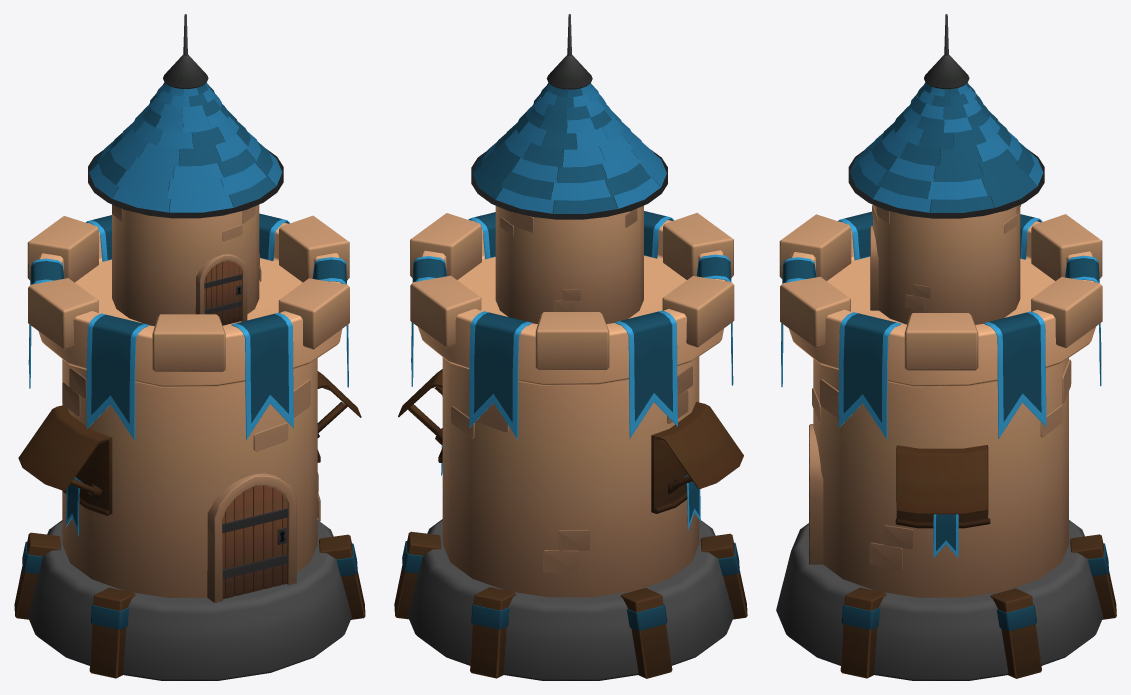
The model's file is TowerWatch_4.fbx.
3 views of the same model, side by side, from view 1: azimuth 30°, elevation 25°; view 2: azimuth 150°, elevation 25°; view 3: azimuth 270°, elevation 25° (orthographic).
Visible parts, largest first — view 1: TowerWatch_4; view 2: TowerWatch_4; view 3: TowerWatch_4.
Boxes of the visible parts, x1,y1,x2,y2 form: TowerWatch_4: [14, 14, 365, 680]; TowerWatch_4: [394, 14, 747, 680]; TowerWatch_4: [776, 14, 1116, 680].
Bounding box in the file's own units: 302 × 552 × 284.
